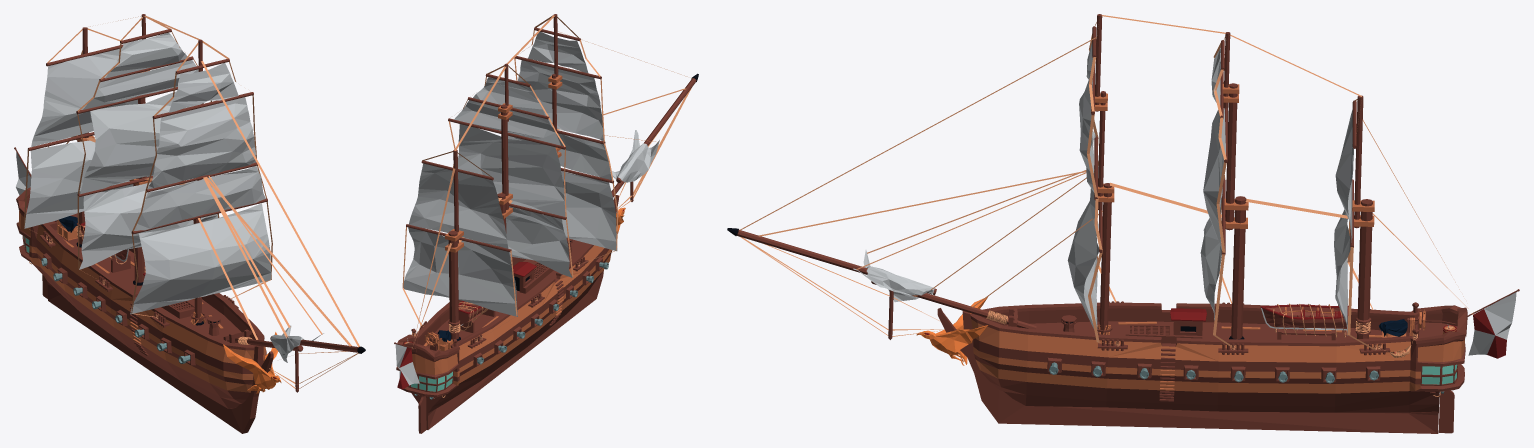
Rendered from ship.glb.
The picture shows the model from 3 angles, left to right: view 1: azimuth 30°, elevation 25°; view 2: azimuth 150°, elevation 25°; view 3: azimuth 270°, elevation 25°; orthographic projection. The views are drawn at different scales.
Parts seen in each view (by area): view 1: Object_3; view 2: Object_3; view 3: Object_3.
Boxes of the visible parts, x1,y1,x2,y2 form: Object_3: (14,14,365,433); Object_3: (394,14,698,433); Object_3: (727,14,1519,433).
Size of the model in its own units: 7.1 by 17.68 by 30.4.
1 material, 1 textured.
